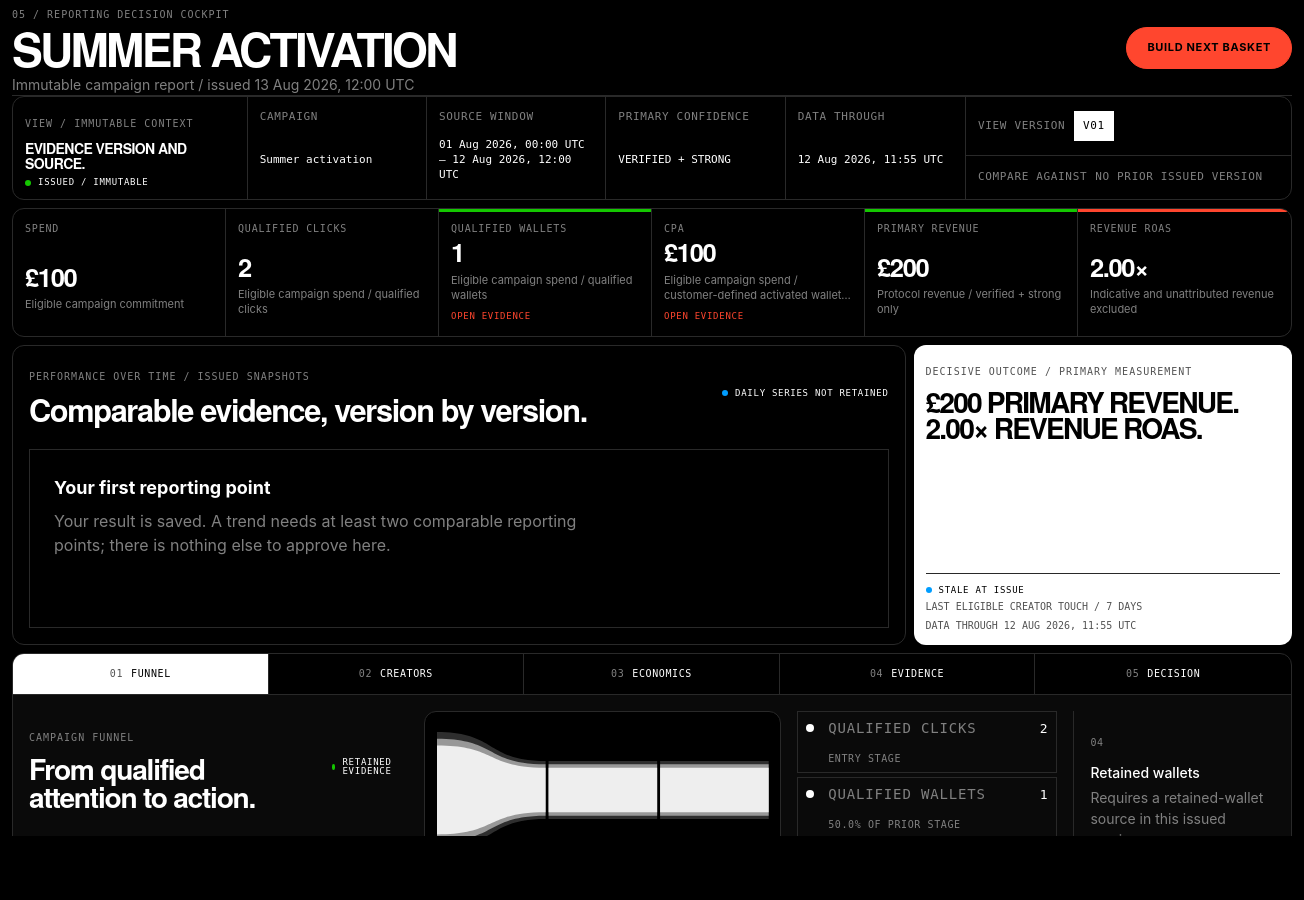
Scenario: performance report › names unavailable thumbnails and ignores enrichment created after issue
Click the tab "02 Creators": (396, 674) top-left (269, 654), bottom-right (524, 694)
(page scrolled)
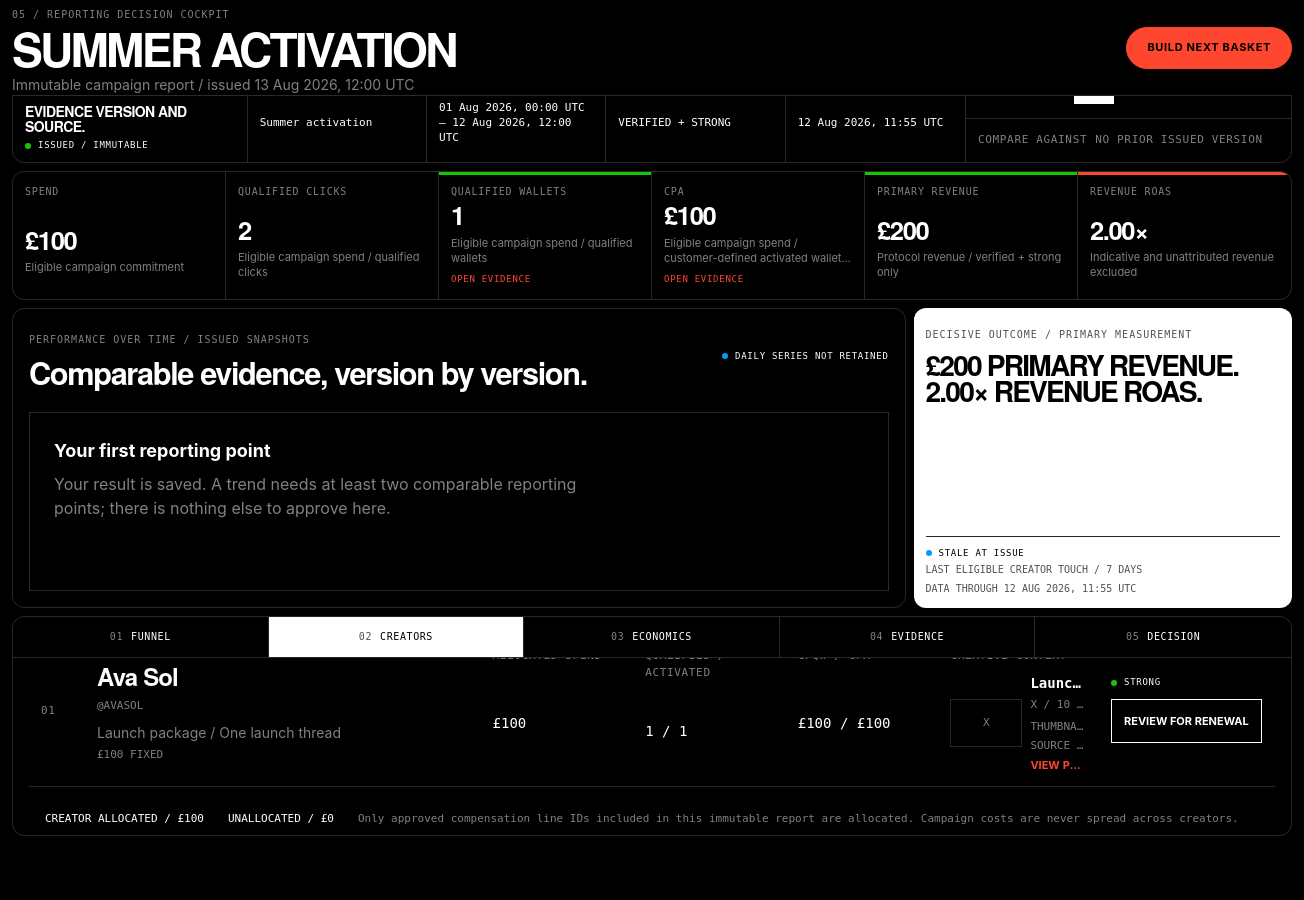
Result: the text "THUMBNAIL NOT AVAILABLE / NOT CAPTURED" is shown at top-left (1030, 720), bottom-right (1087, 735)
Result: the text "Campaign publication workflow" is shown at top-left (1090, 739), bottom-right (1282, 752)
